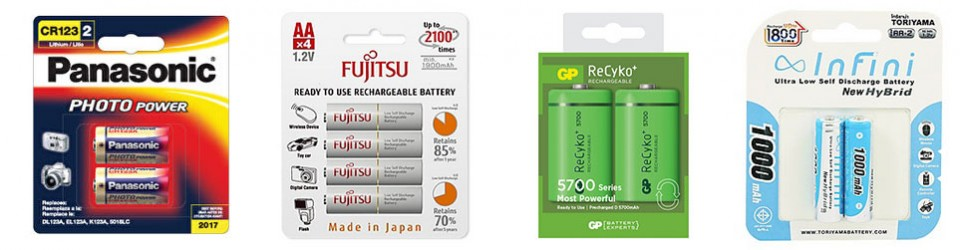Battery: (614, 80, 682, 206), (546, 82, 614, 207), (812, 113, 846, 224), (843, 112, 875, 223), (91, 164, 172, 206), (91, 124, 172, 165), (323, 100, 426, 131), (324, 185, 426, 216), (323, 156, 426, 185), (323, 129, 425, 157)
